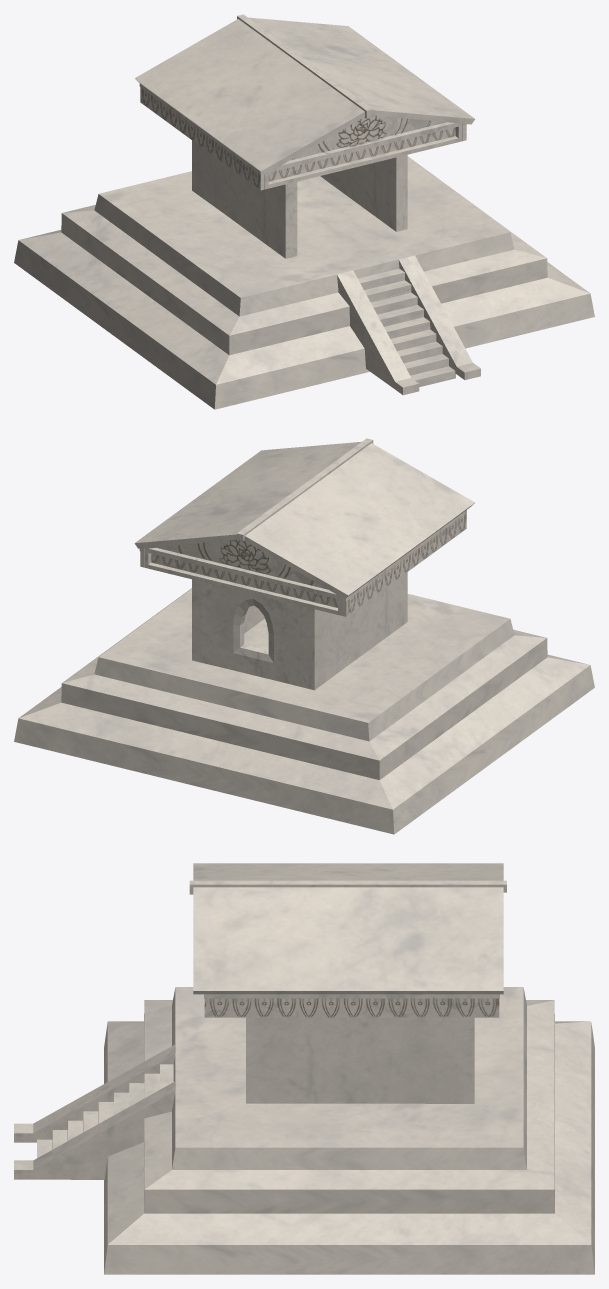
The model's file is Temple1.fbx.
The picture shows the model from 3 angles, top to bottom: view 1: azimuth 30°, elevation 25°; view 2: azimuth 150°, elevation 25°; view 3: azimuth 270°, elevation 25°; orthographic projection. The views are drawn at different scales.
Parts seen in each view (by area): view 1: Temple1; view 2: Temple1; view 3: Temple1.
Part boxes in pixels (x1,y1,x2,y2): Temple1: (14, 14, 594, 409); Temple1: (14, 438, 594, 834); Temple1: (14, 863, 594, 1274).
Size of the model in its own units: 2634 by 1514 by 2850.
